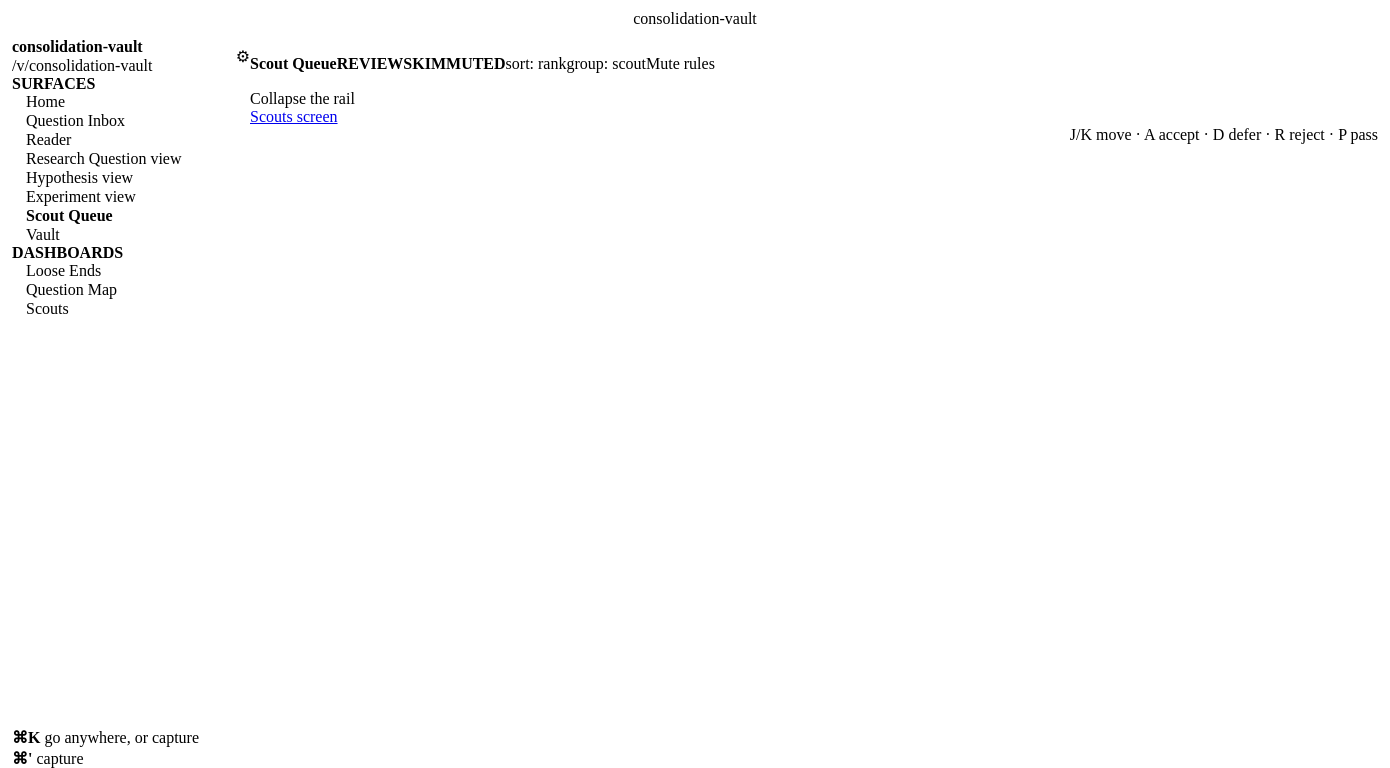
Test case: the collapsed rail › filters from the strip, and clearing restores the list
This screenshot has width=1390, height=768.
Click the button "Collapse the rail".
click(302, 99)  # box [250,90,355,108]
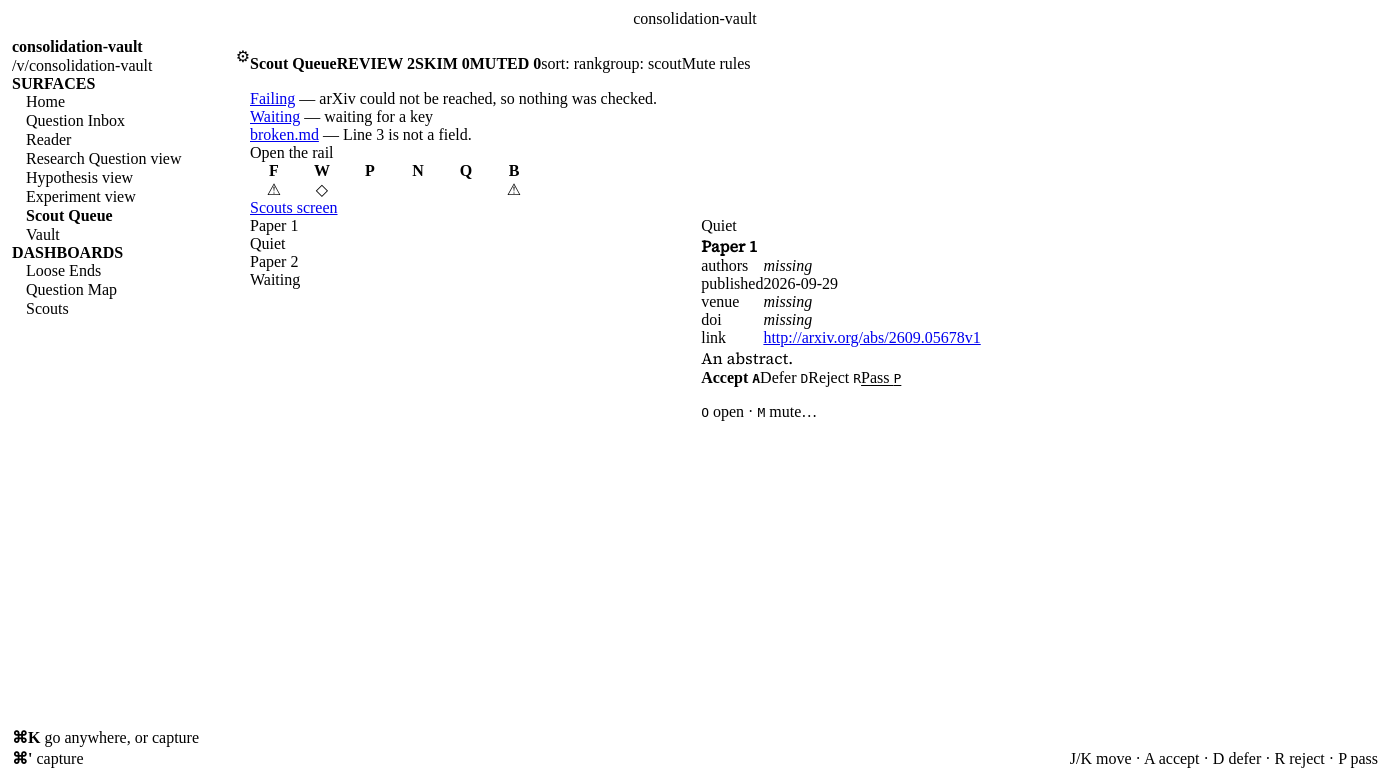
Click the button named "Waiting".
click(322, 180)  # box [298,162,346,199]
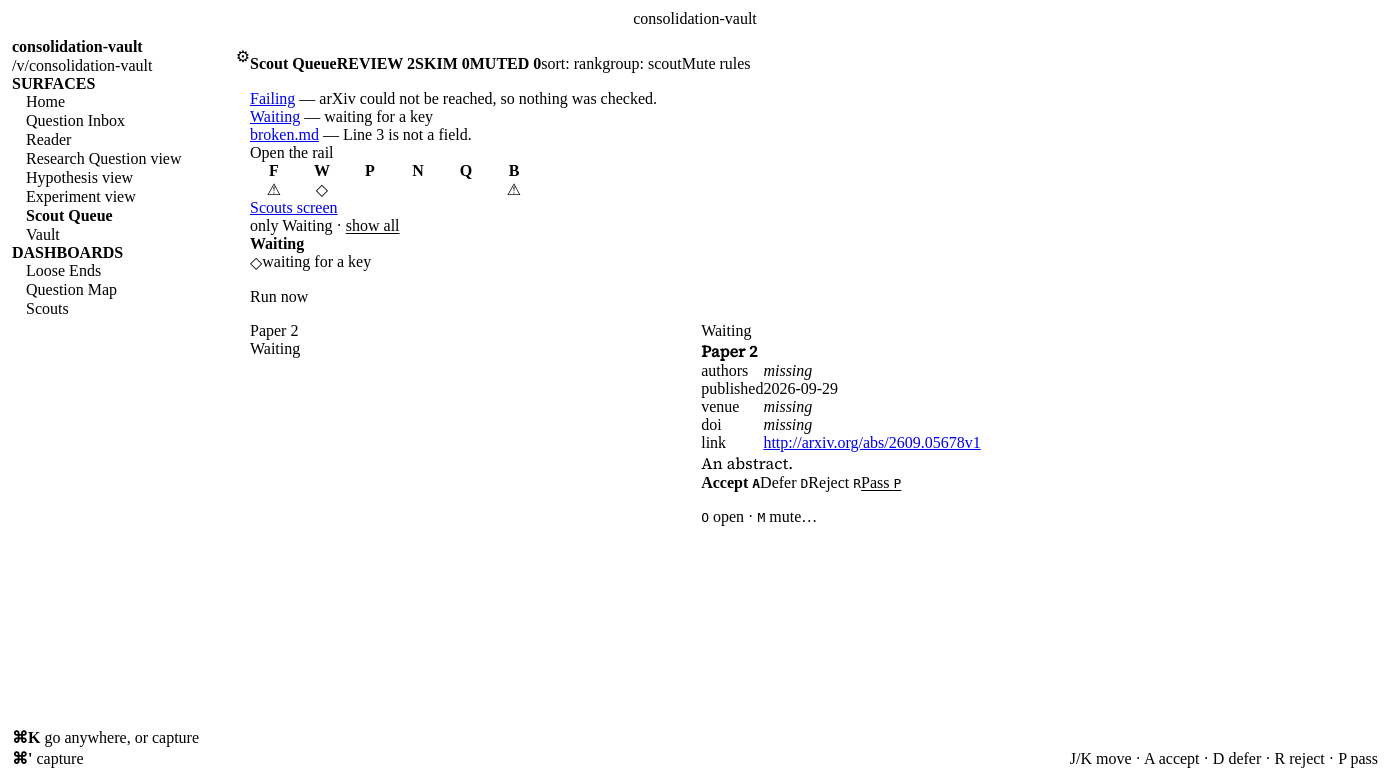
Expected: the text "Paper 2" is shown, [250,322,298,340]
Click the button "show all".
click(373, 226)  # box [346,217,400,235]
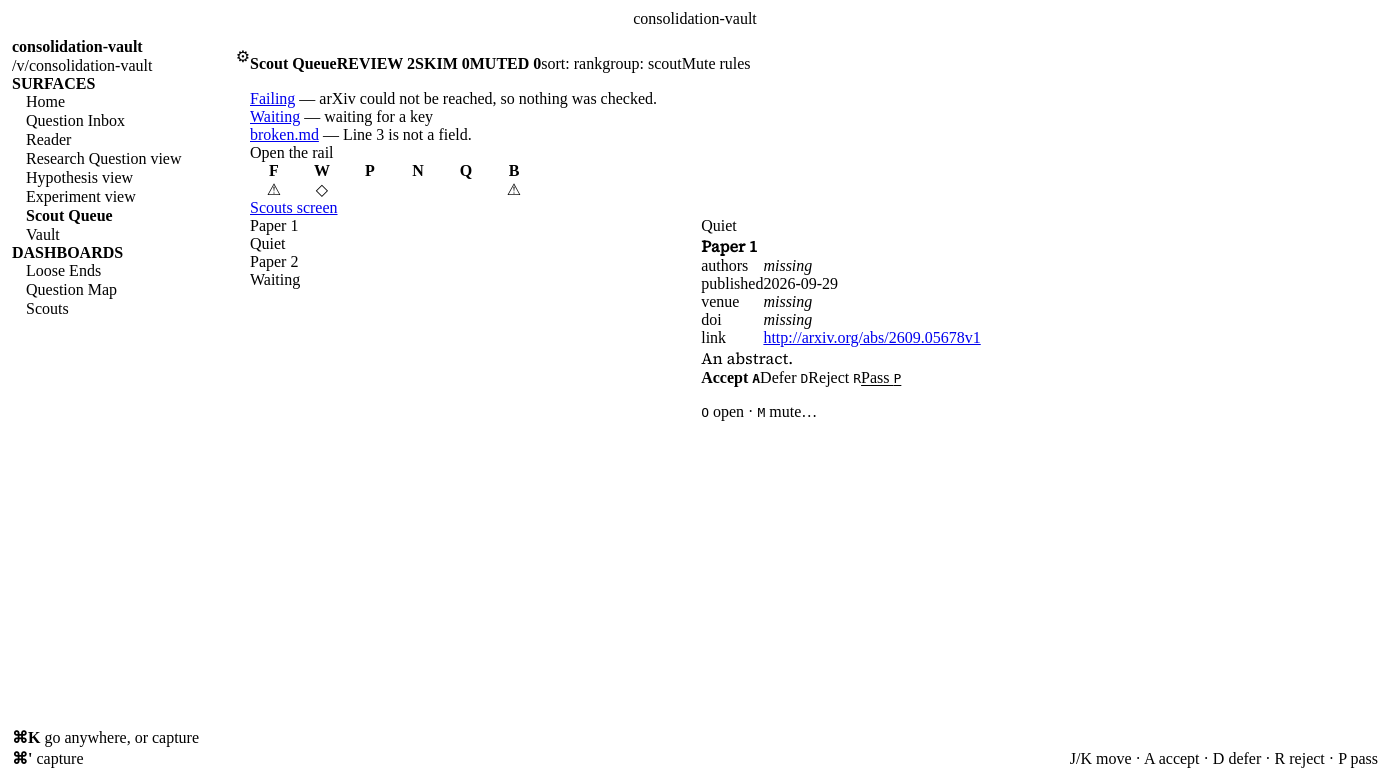
Expected: the text "Paper 2" is shown, [250,253,298,271]
Expected: the text "Paper 1" is shown, [250,217,298,235]
